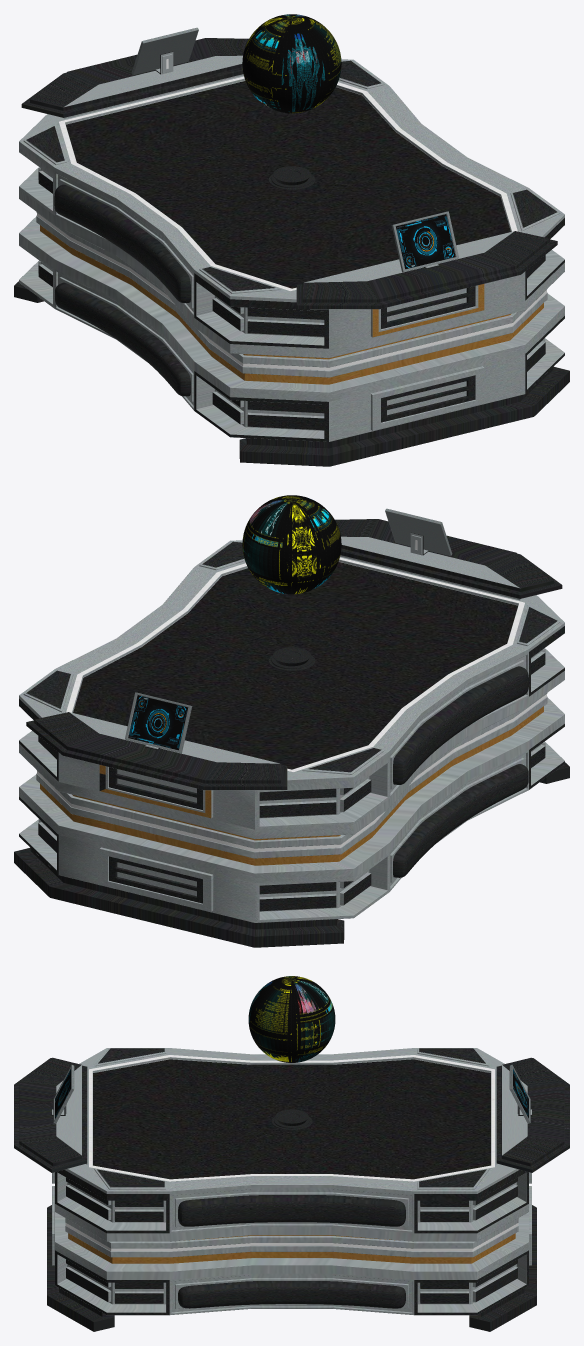
File: mesa.obj
3 views of the same model, one above another, from view 1: azimuth 30°, elevation 25°; view 2: azimuth 150°, elevation 25°; view 3: azimuth 270°, elevation 25° (orthographic). The views are drawn at different scales.
Parts seen in each view (by area): view 1: Table, Globe, Screen:A, Screen:B; view 2: Table, Globe, Screen:B, Screen:A; view 3: Table, Globe, Screen:A, Screen:B.
Part boxes in pixels (<box>): Table: <box>14,38,569,466</box>; Globe: <box>242,14,341,113</box>; Screen:A: <box>391,211,458,272</box>; Screen:B: <box>131,27,198,75</box>; Table: <box>14,519,569,947</box>; Globe: <box>242,495,341,594</box>; Screen:B: <box>125,692,192,753</box>; Screen:A: <box>385,508,452,556</box>; Table: <box>14,1048,569,1331</box>; Globe: <box>248,976,335,1062</box>; Screen:A: <box>53,1064,74,1123</box>; Screen:B: <box>509,1064,530,1123</box>.
Size of the model in its own units: 815 by 714 by 1278.
8 materials, 8 textured.
